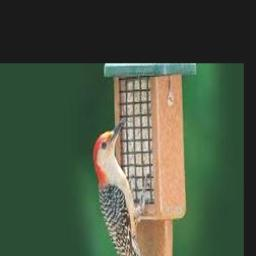Woodpecker: (93, 117, 161, 256)
